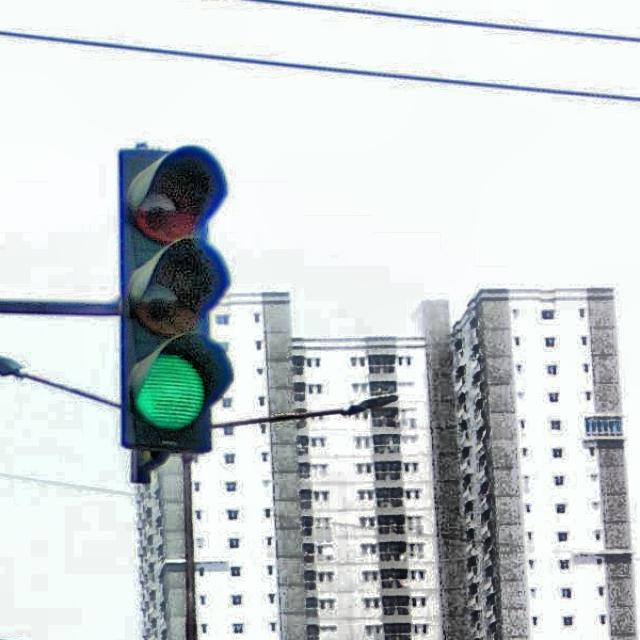green: (119, 152, 231, 447)
